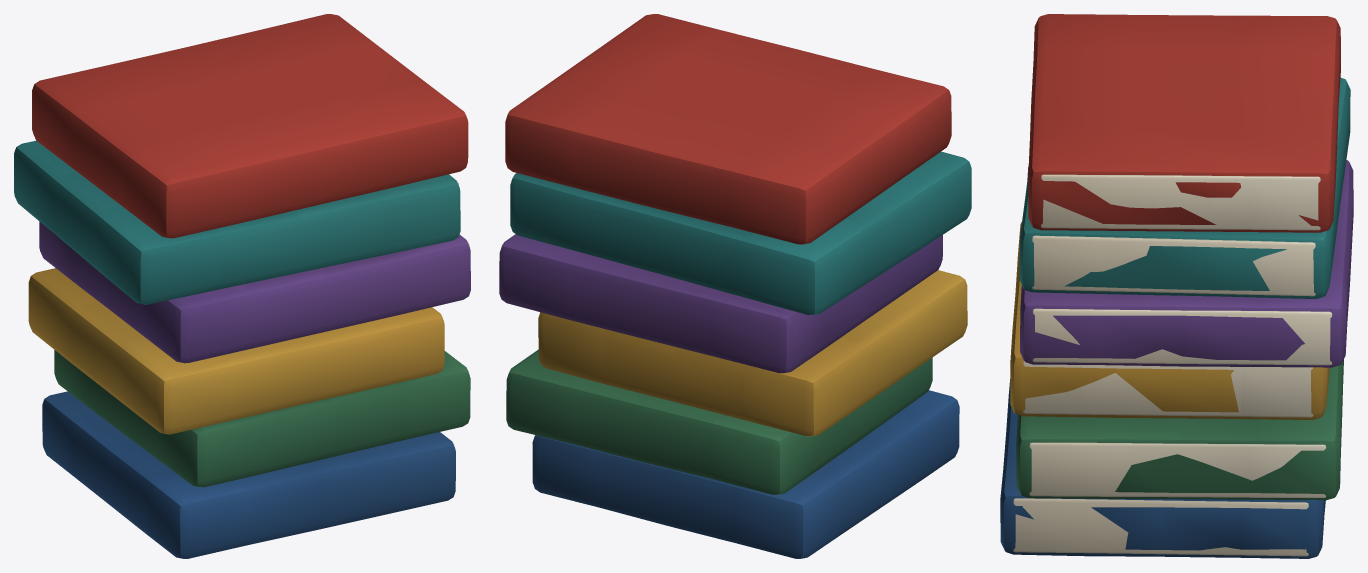
Rendered from den_book_stack_tall.glb.
3 renders of one model, left to right at view 1: azimuth 30°, elevation 25°; view 2: azimuth 150°, elevation 25°; view 3: azimuth 270°, elevation 25°, orthographic. The views are drawn at different scales.
Visible parts, largest first — view 1: den_book_stack_tall; view 2: den_book_stack_tall; view 3: den_book_stack_tall.
Boxes of the visible parts, left/top/right/bottom form: den_book_stack_tall: left=14, top=14, right=470, bottom=558; den_book_stack_tall: left=499, top=14, right=971, bottom=558; den_book_stack_tall: left=1000, top=14, right=1353, bottom=558.
Bounding box in the file's own units: 8.32 × 9 × 7.12.
